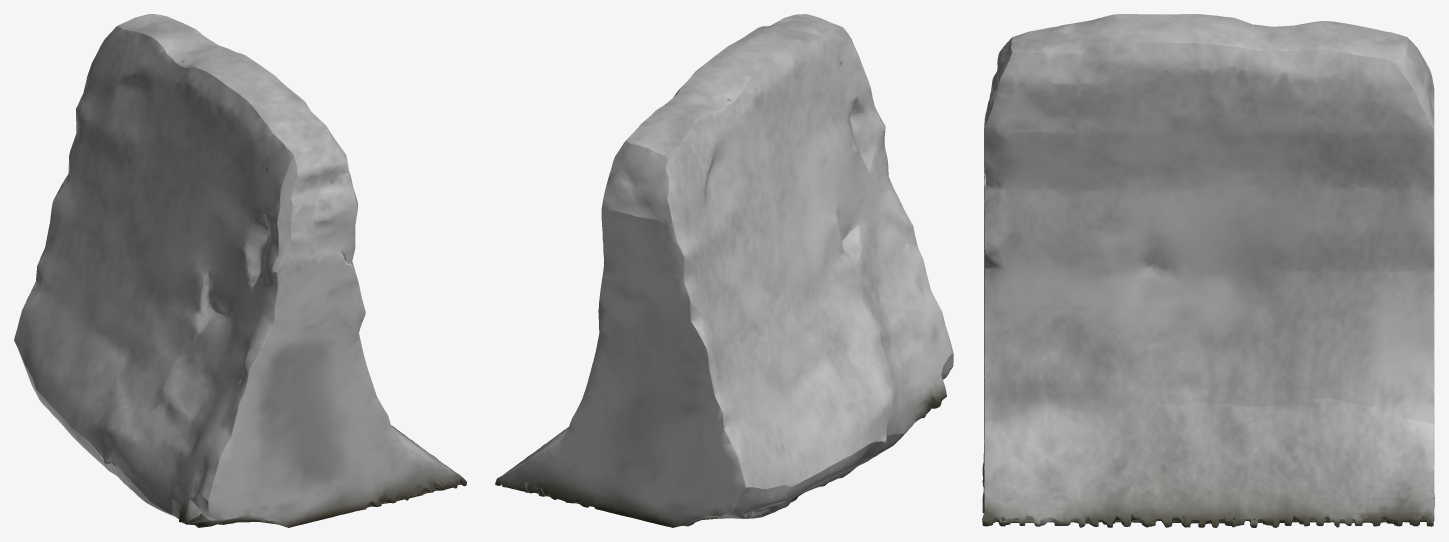
3 renders of one model, left to right at view 1: azimuth 30°, elevation 25°; view 2: azimuth 150°, elevation 25°; view 3: azimuth 270°, elevation 25°, orthographic. The views are drawn at different scales.
Visible parts, largest first — view 1: world; view 2: world; view 3: world.
Boxes of the visible parts, left/top/right/bottom form: world: left=14, top=14, right=466, bottom=527; world: left=495, top=14, right=953, bottom=527; world: left=982, top=14, right=1434, bottom=527.
Size of the model in its own units: 0.1138 by 0.15 by 0.1436.
1 material, 1 textured.
